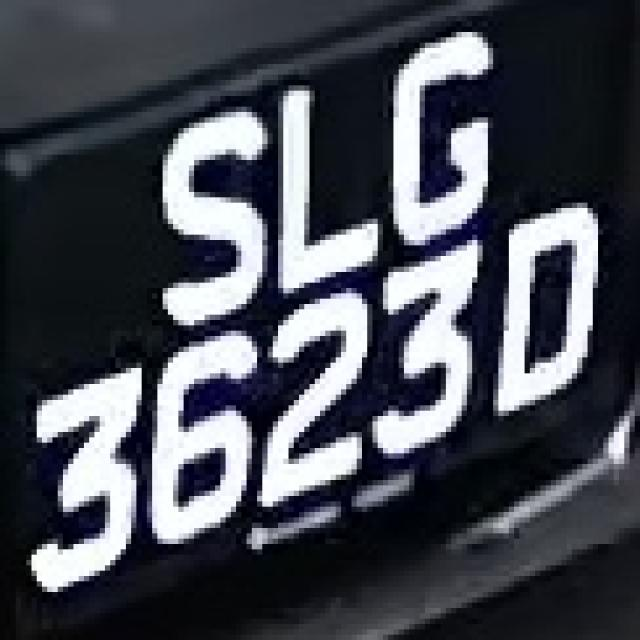2: (257, 283, 378, 512)
3: (362, 229, 498, 480), (21, 373, 142, 603)
6: (142, 314, 262, 554)
D: (477, 198, 598, 422)
G: (372, 11, 509, 240)
L: (273, 64, 372, 293)
S: (131, 96, 278, 325)
